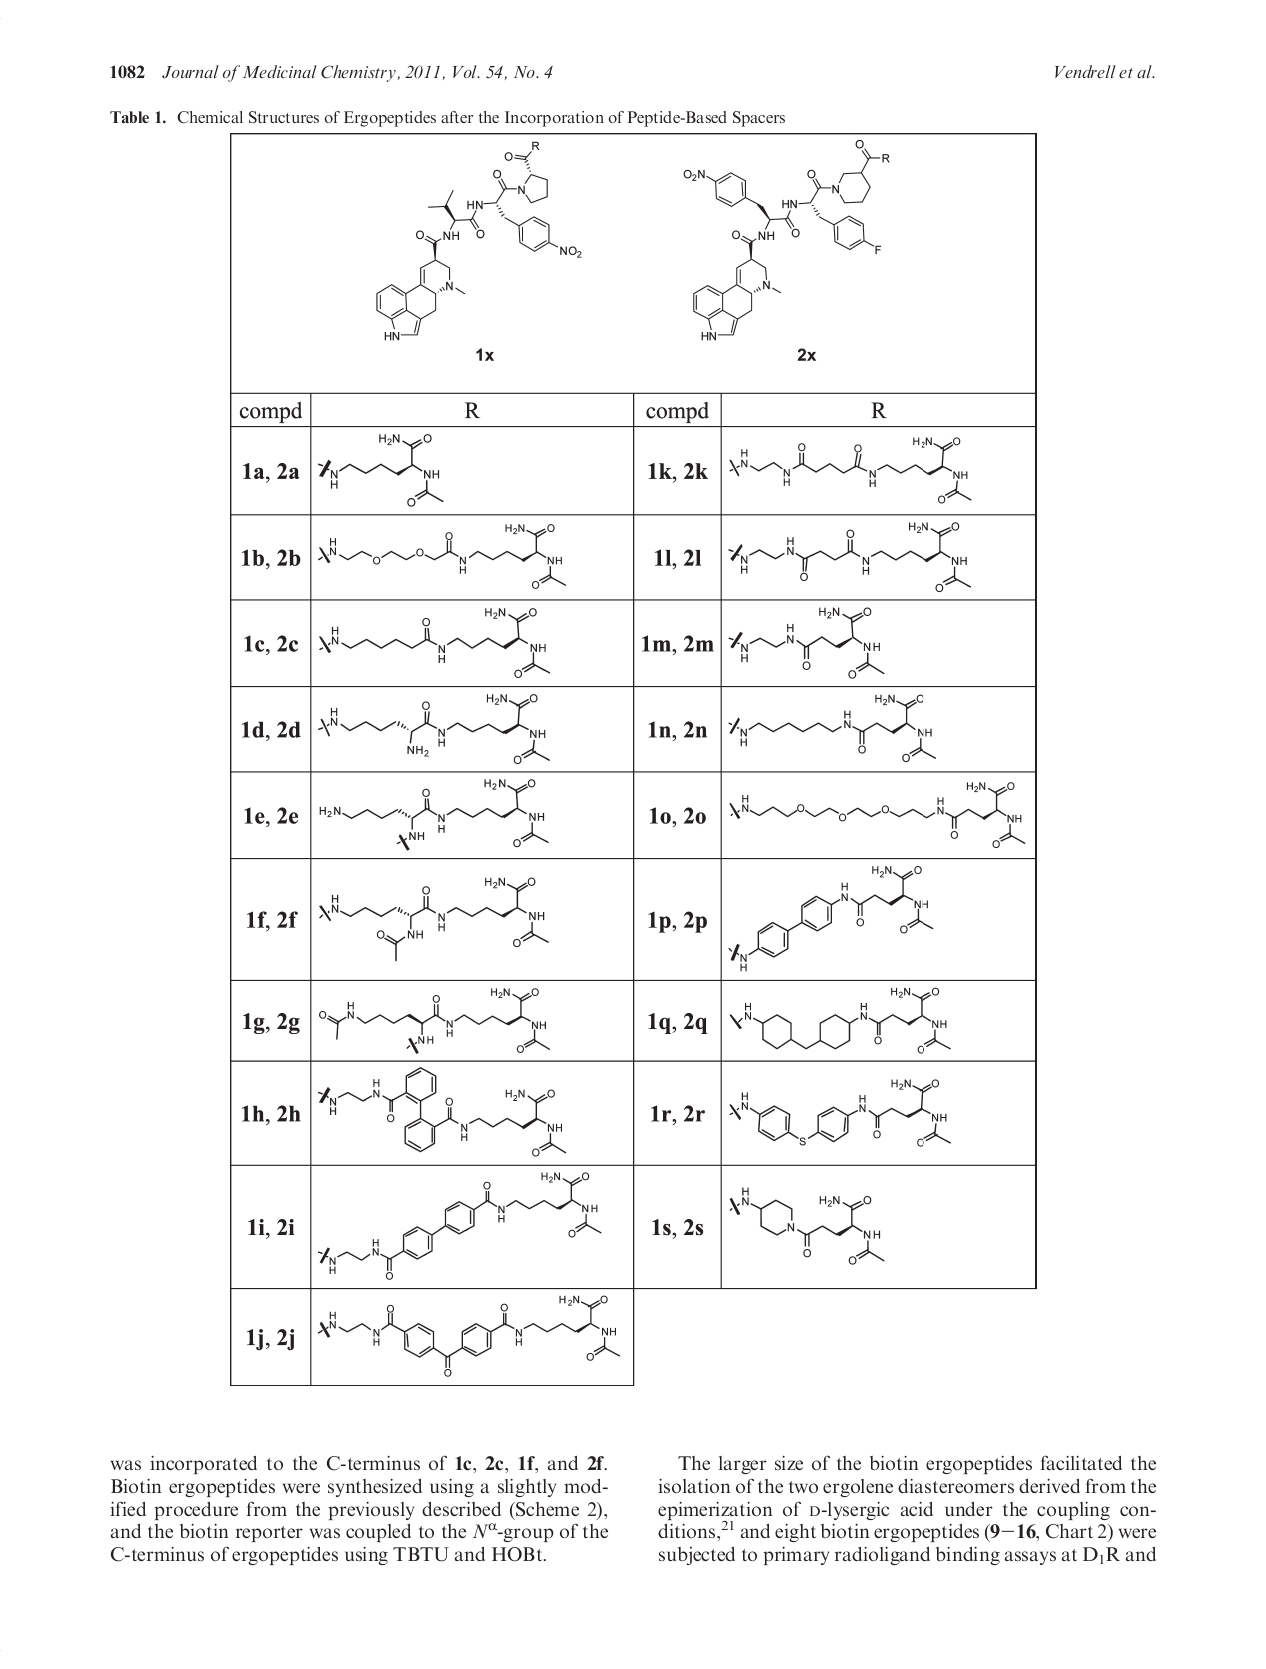exist_molecular: (680, 137, 892, 343), (372, 138, 584, 340), (316, 1170, 602, 1281), (315, 1293, 622, 1376), (316, 1067, 570, 1158), (726, 863, 936, 971), (726, 781, 1029, 850), (316, 872, 551, 960), (315, 521, 569, 592), (727, 520, 972, 593), (316, 777, 552, 851), (316, 606, 552, 680), (726, 1075, 952, 1150), (315, 692, 552, 763), (727, 436, 973, 504), (727, 984, 956, 1056), (315, 987, 553, 1055), (727, 693, 938, 763), (725, 1182, 884, 1266), (727, 604, 884, 680), (316, 431, 447, 509)
